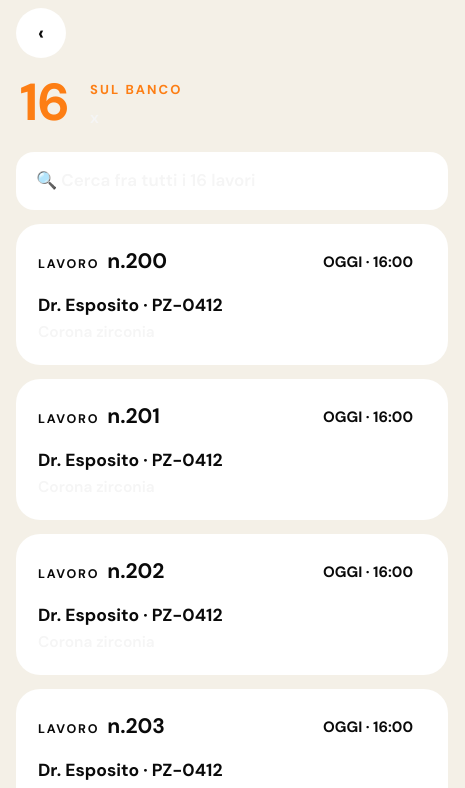
Test case: PilaAperta — la lista di legge (§4.1) › Task 10 (O1c) — con ricerca aperta, il bottone «Chiudi ricerca» richiude il campo e riporta RigaCerca
Click the button "🔍 Cerca fra tutti i 16 lavori": (232, 180) [16,152,448,210]
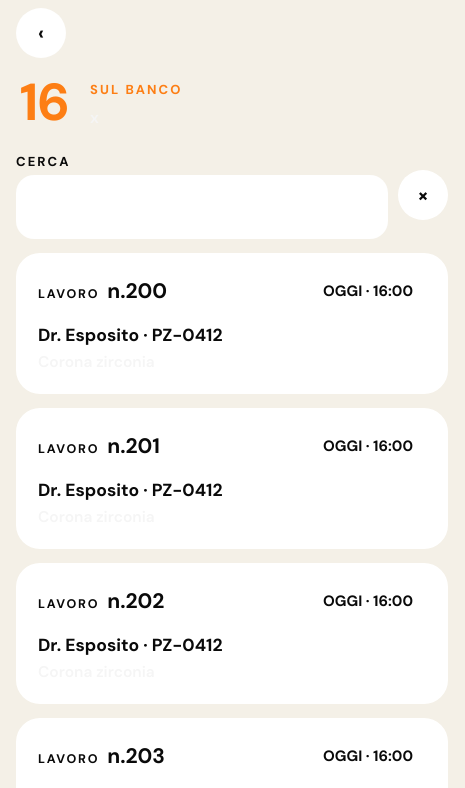
Now the button "Cerca fra tutti" is gone
Click the button named "Chiudi ricerca": (423, 195) [398,170,448,220]
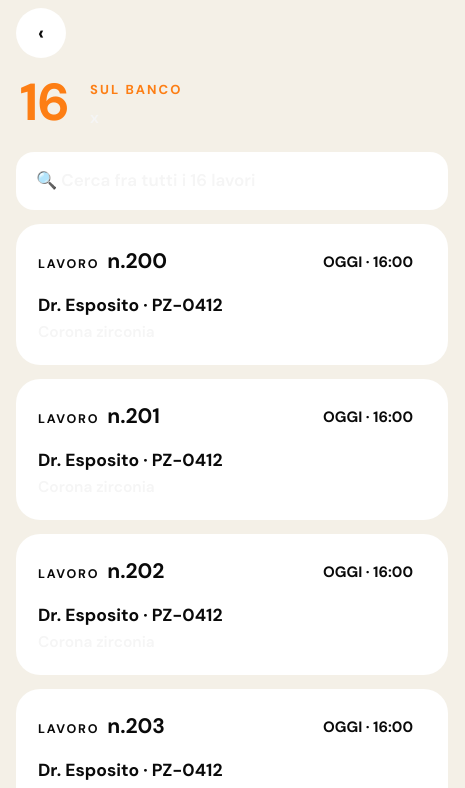
Now the field is gone
Now the button "🔍 Cerca fra tutti i 16 lavori" is shown, box [16,152,448,210]
